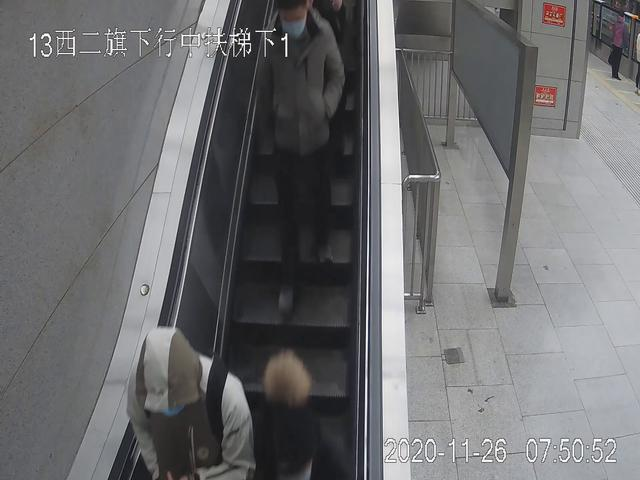person: (261, 1, 345, 314), (128, 328, 255, 480), (607, 10, 628, 80)
